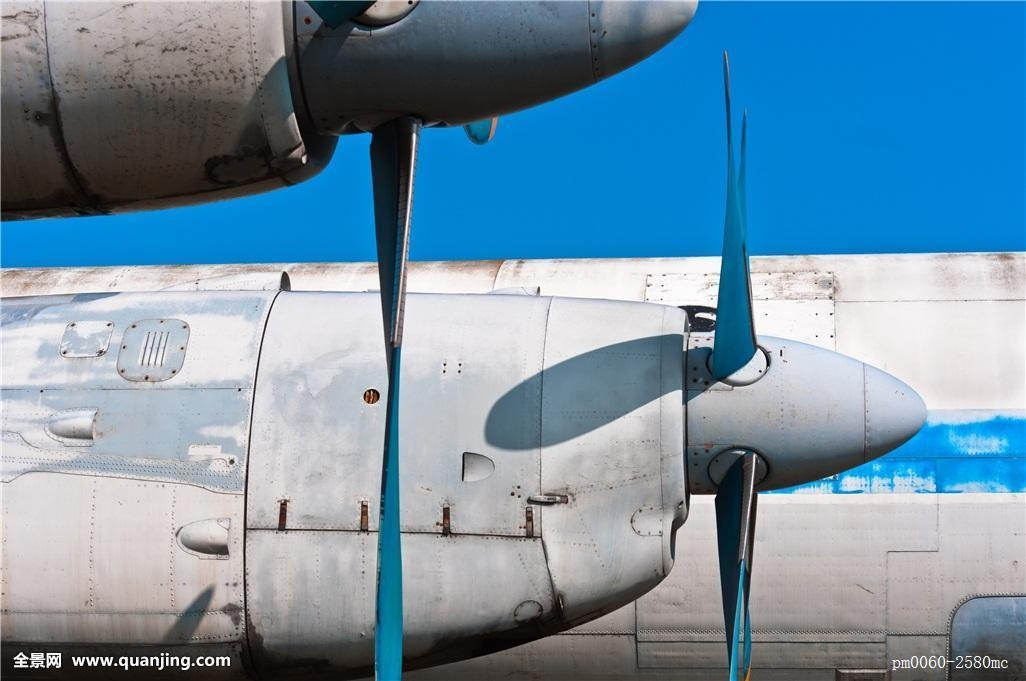airplane: (2, 50, 947, 681)
